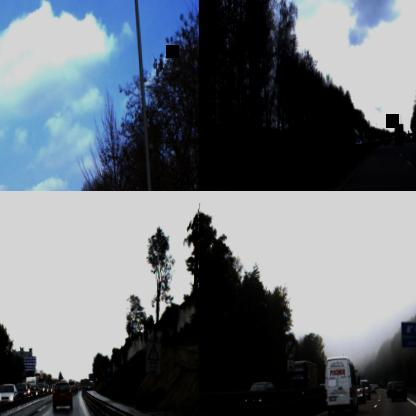DANGER: (147, 342, 159, 360)
restriction ends: (284, 339, 296, 358)
speed limit 100: (276, 54, 298, 92)
